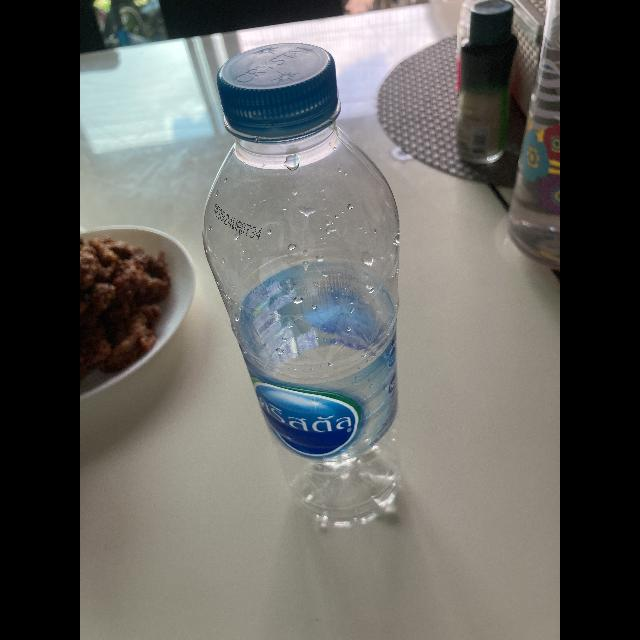plastic_bottle: (195, 37, 408, 527)
plastic_bottle_cap: (220, 40, 340, 144)
